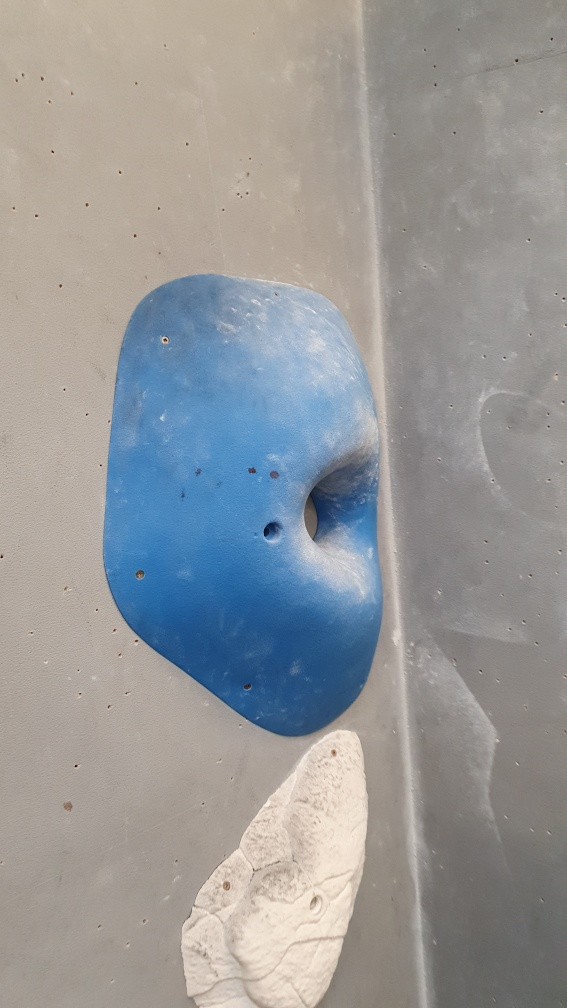Pocket: (99, 273, 385, 737)
